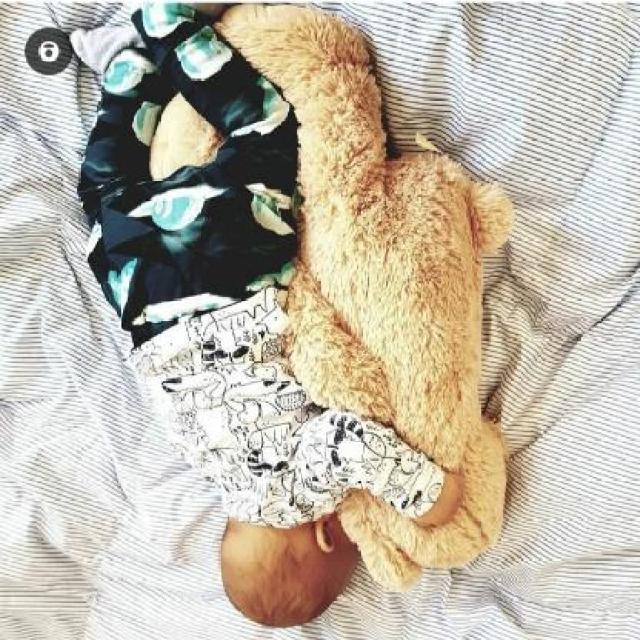baby: (66, 2, 462, 630)
